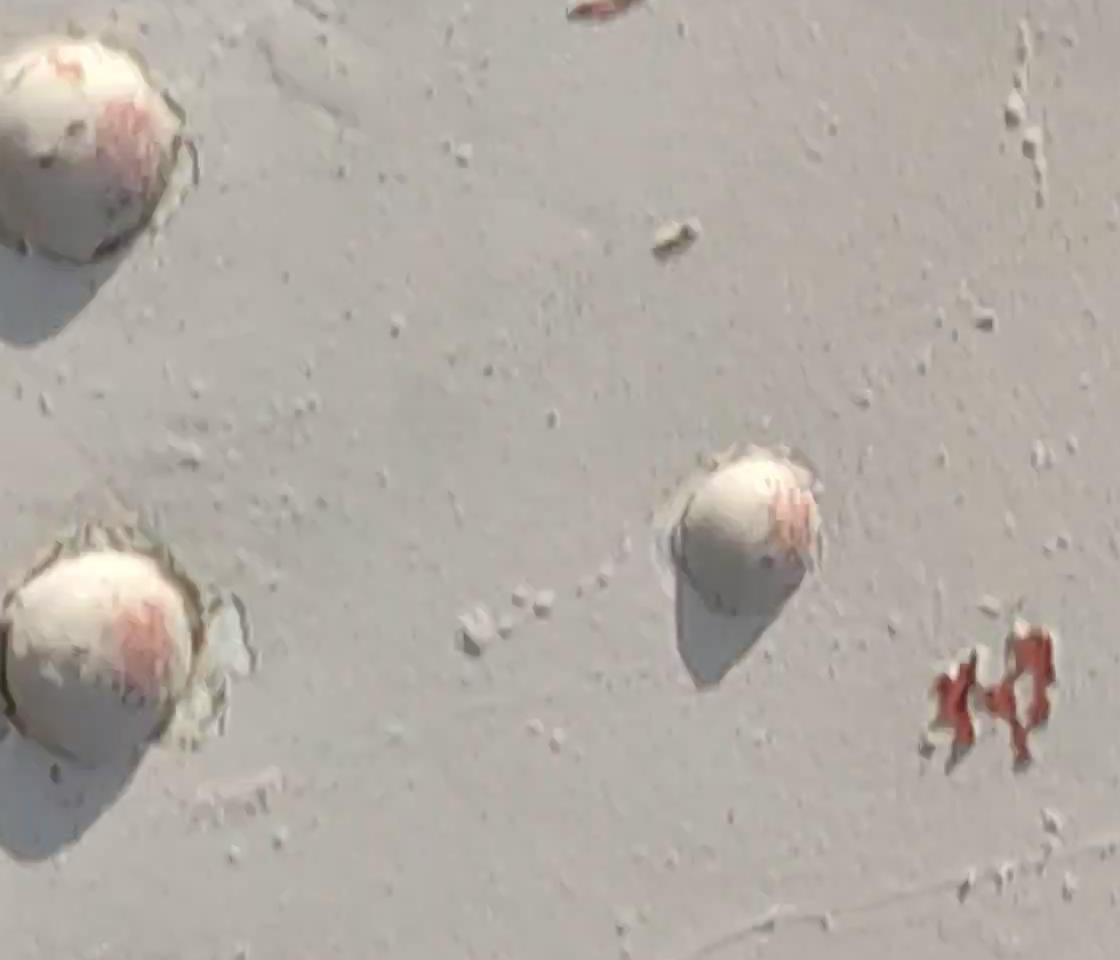paint_peel: (899, 610, 1072, 776)
